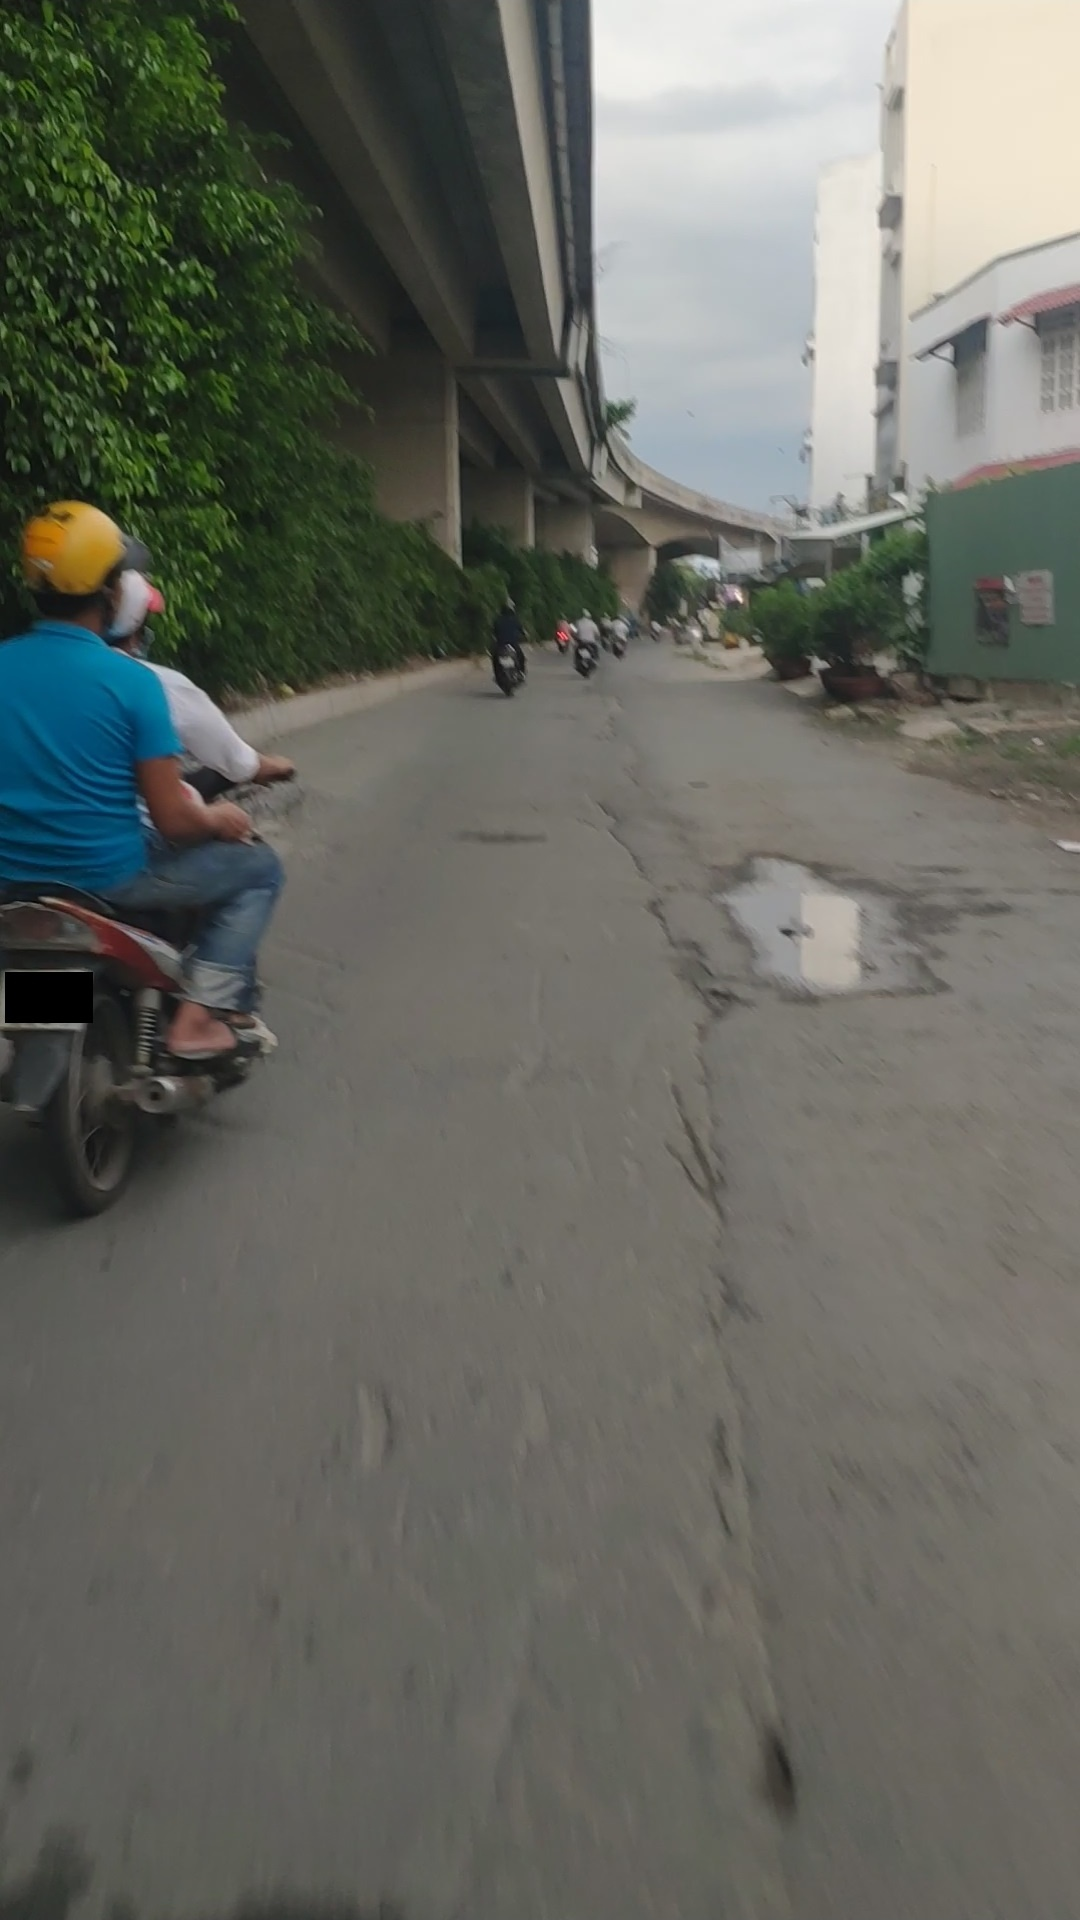hole: (723, 851, 939, 1000), (637, 889, 715, 971), (688, 980, 748, 1036)
